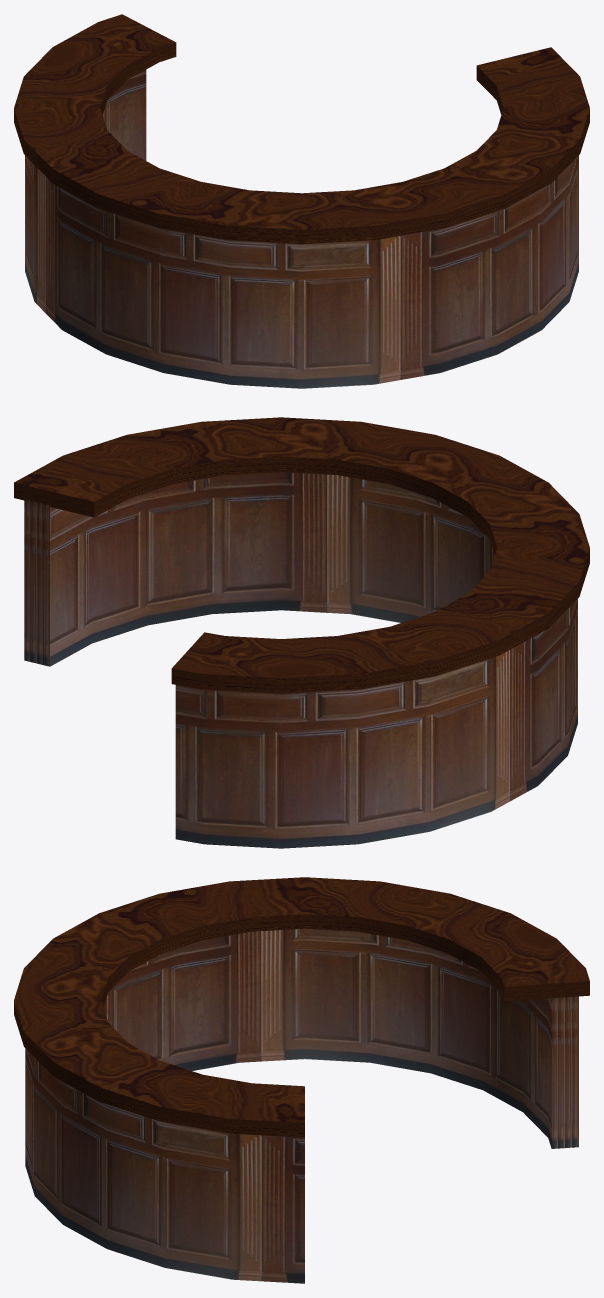
3 renders of one model, top to bottom at view 1: azimuth 30°, elevation 25°; view 2: azimuth 150°, elevation 25°; view 3: azimuth 270°, elevation 25°, orthographic. The views are drawn at different scales.
Visible parts, largest first — view 1: prim0, prim1; view 2: prim0, prim1; view 3: prim0, prim1.
Part boxes in pixels (bbox=[...]): prim0: bbox=[25, 70, 578, 388]; prim1: bbox=[14, 14, 589, 244]; prim0: bbox=[24, 472, 577, 848]; prim1: bbox=[14, 417, 589, 693]; prim0: bbox=[25, 928, 578, 1283]; prim1: bbox=[14, 877, 589, 1137].
Size of the model in its own units: 5.2 by 1.63 by 5.15.
Materials: 2 (2 with a texture image).
